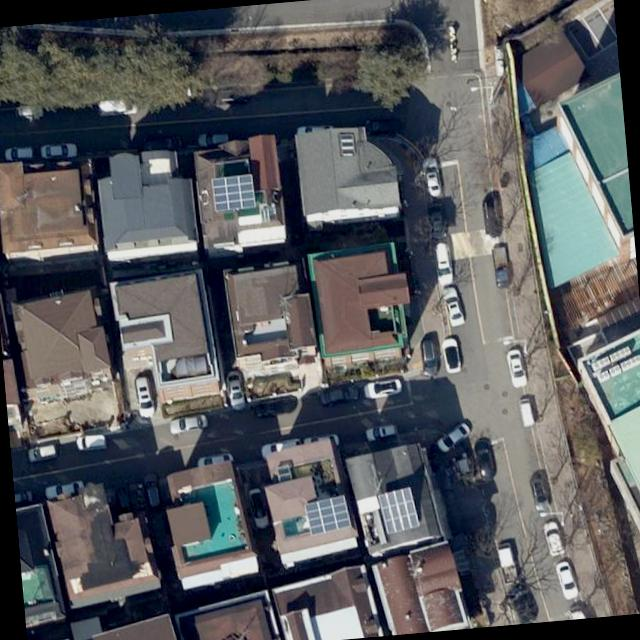solar: (375, 483, 423, 537), (302, 493, 353, 536), (209, 172, 257, 212)
